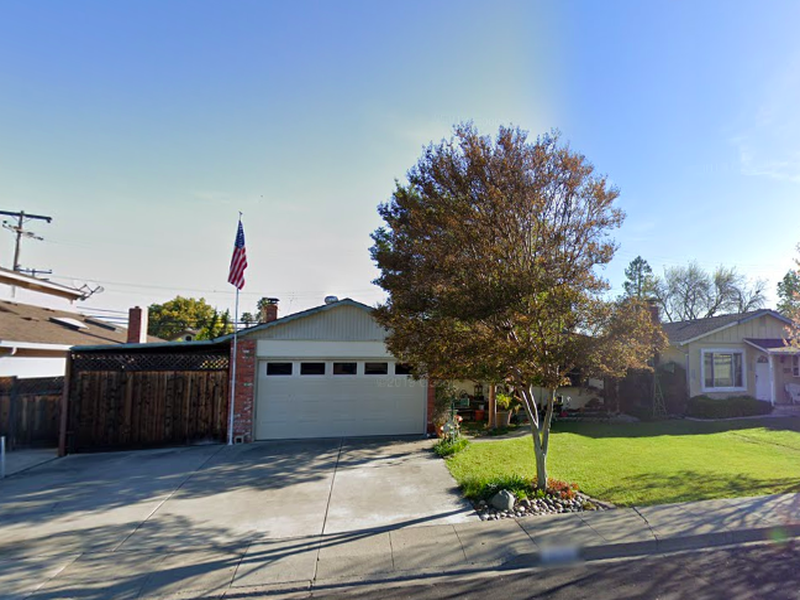tree: (368, 117, 671, 502)
